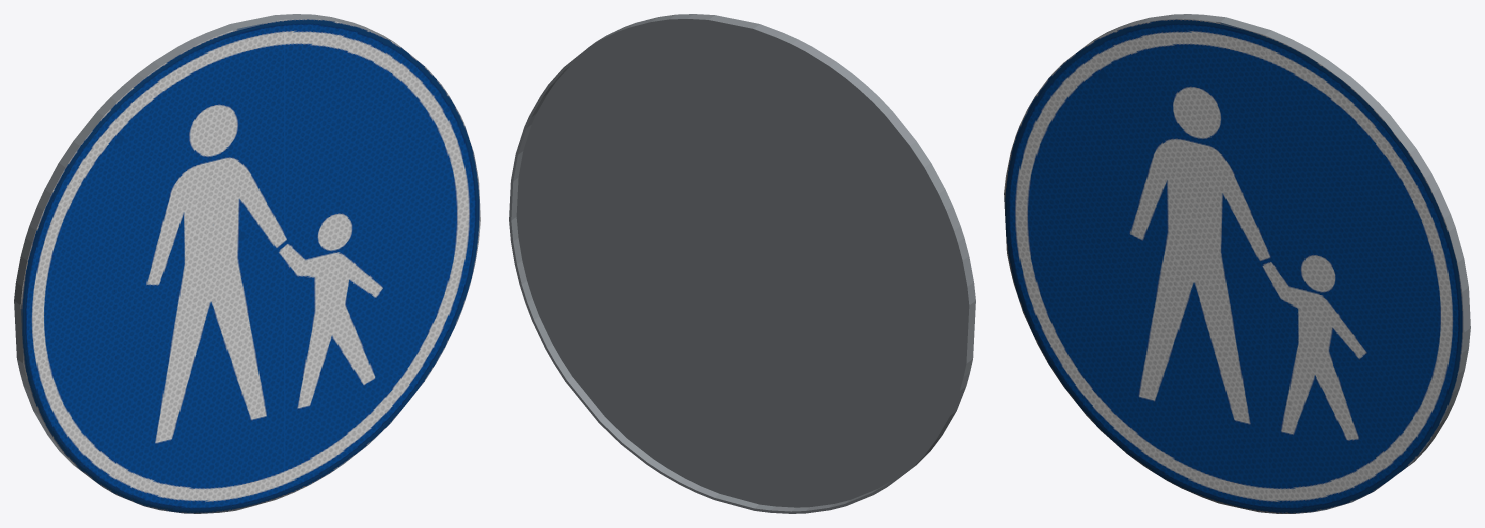
3 views of the same model, side by side, from view 1: azimuth 30°, elevation 25°; view 2: azimuth 150°, elevation 25°; view 3: azimuth 330°, elevation 25° (orthographic).
Visible parts, largest first — view 1: cat_be598eeb0ad00c68; view 2: cat_be598eeb0ad00c68; view 3: cat_be598eeb0ad00c68.
Boxes of the visible parts, box(x1,y1,x2,y2) form: cat_be598eeb0ad00c68: box(14, 14, 480, 513); cat_be598eeb0ad00c68: box(509, 14, 975, 513); cat_be598eeb0ad00c68: box(1004, 14, 1470, 513).
Size of the model in its own units: 0.6 by 0.015 by 0.6.
Materials: 2 (1 with a texture image).
